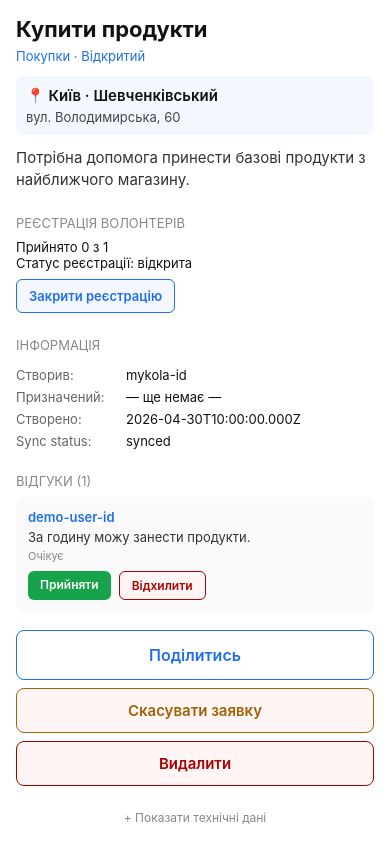
Test case: Phase 5 — accept flow › ACC3: capacity-fill on a limited(1) request closes registration and declines siblings
Click the element with test id "response-accept-res-3": [69, 586] box [28,571,111,600]
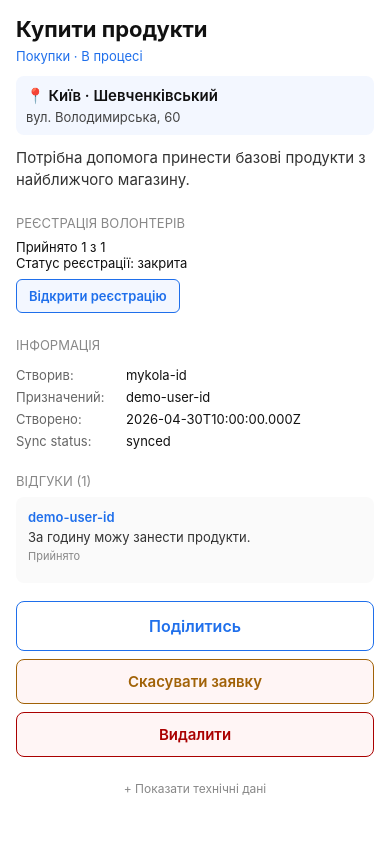
Now the text with test id "request-detail-slots-counter" reads "Прийнято 1 з 1", box [16,239,106,255]
